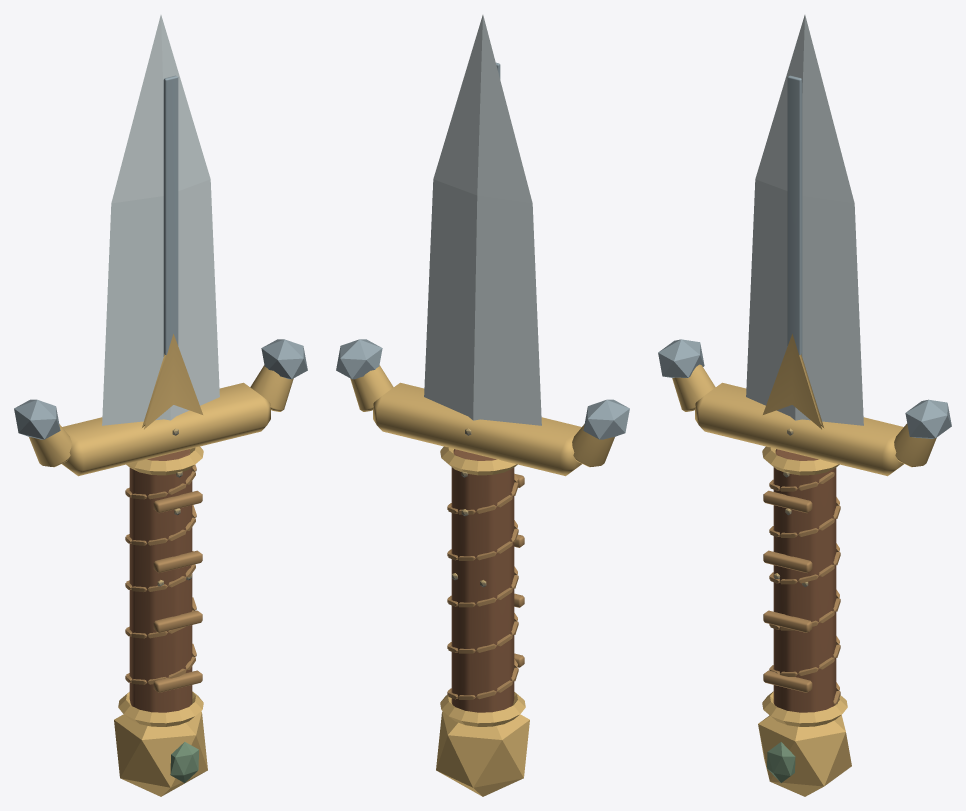
The model's file is espada_cobre_t2.glb.
3 views of the same model, side by side, from view 1: azimuth 30°, elevation 25°; view 2: azimuth 150°, elevation 25°; view 3: azimuth 330°, elevation 25° (orthographic).
Parts seen in each view (by area): view 1: espada_cobre_t2_finished; view 2: espada_cobre_t2_finished; view 3: espada_cobre_t2_finished.
Part boxes in pixels (<box>): espada_cobre_t2_finished: <box>14,15,307,796</box>; espada_cobre_t2_finished: <box>336,15,629,796</box>; espada_cobre_t2_finished: <box>658,15,951,796</box>.
Bounding box in the file's own units: 0.7091 × 1.86 × 0.2141.
7 materials, 1 textured.
